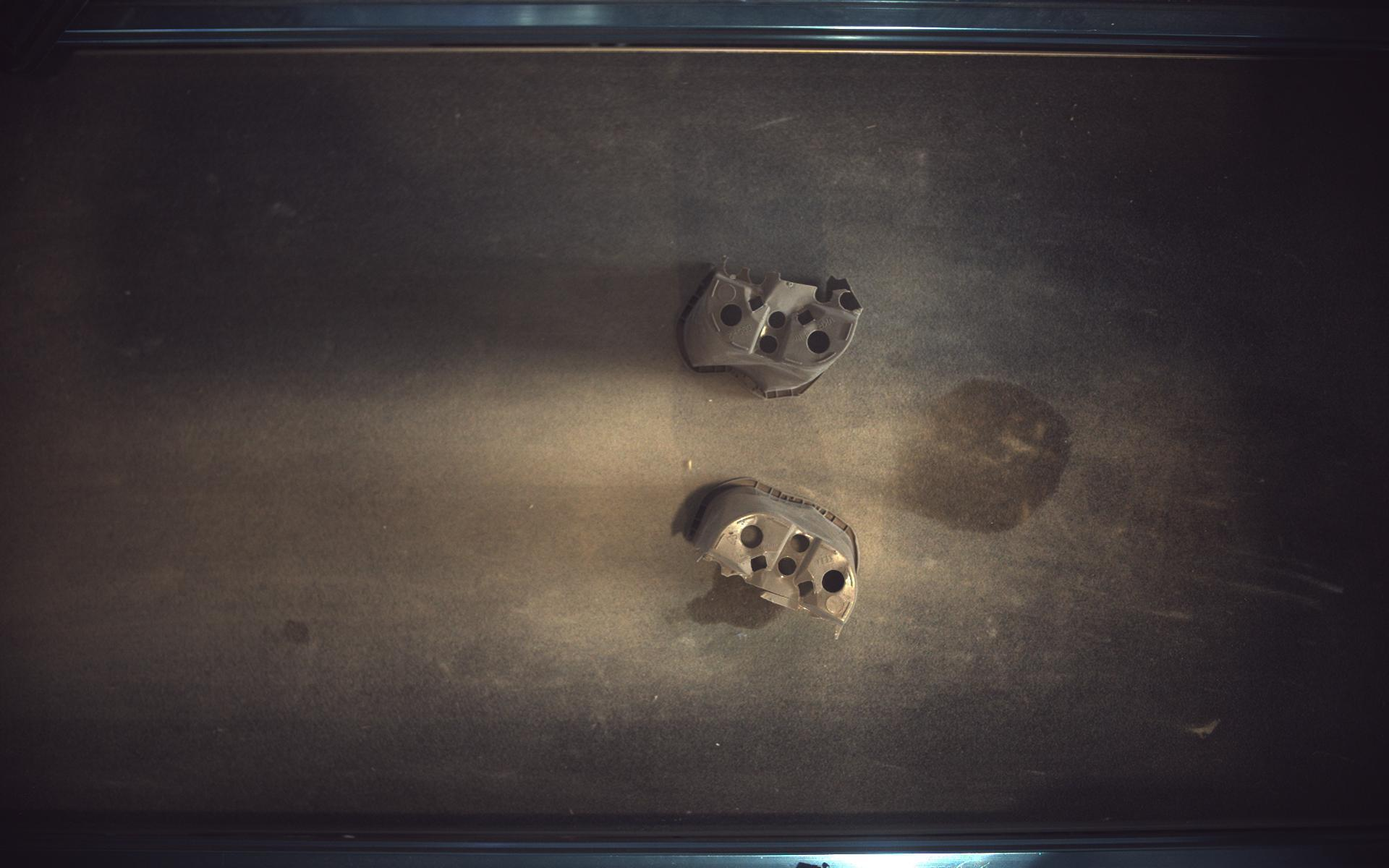general_w: (687, 479, 861, 637), (679, 258, 863, 398)
